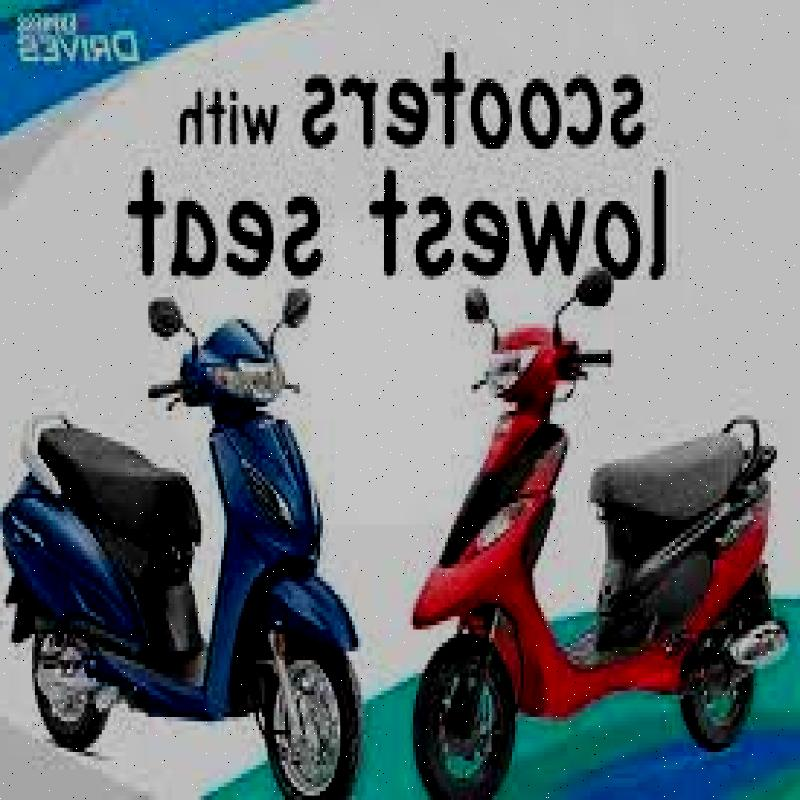bike: (371, 298, 789, 796), (0, 282, 390, 800)
